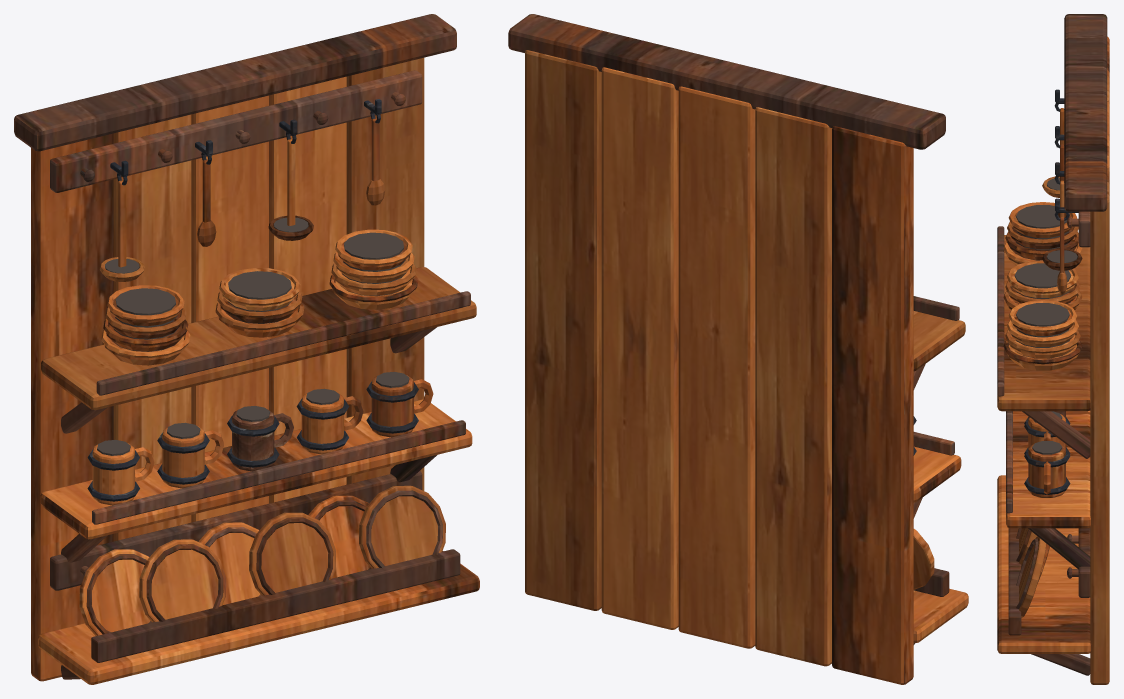
Rendered from mg_bowl_shelf.glb.
The picture shows the model from 3 angles, left to right: view 1: azimuth 30°, elevation 25°; view 2: azimuth 150°, elevation 25°; view 3: azimuth 270°, elevation 25°; orthographic projection. The views are drawn at different scales.
Visible parts, largest first — view 1: model; view 2: model; view 3: model.
Boxes of the visible parts, <box> form: model: <box>14,14,479,684</box>; model: <box>508,14,968,684</box>; model: <box>997,14,1109,684</box>.
Bounding box in the file's own units: 1 × 1.28 × 0.261.
Materials: 9 (8 with a texture image).
